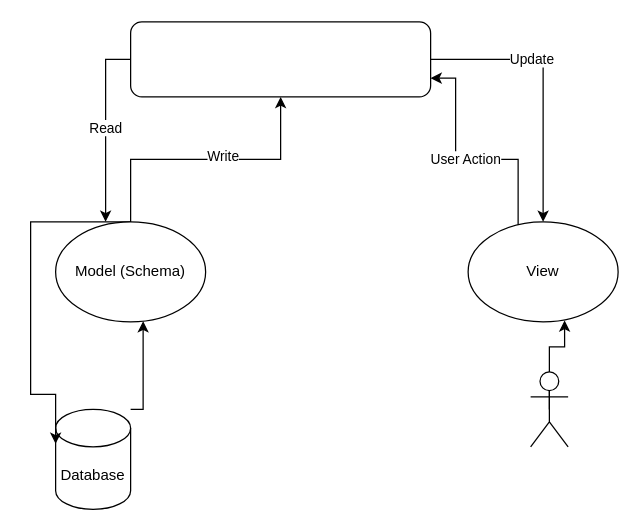
This 640x531 diagram has some shape labels left out. The centre of each missing label's shape, as x and y in pixels:
"Controller" goes at pixel 280 59.
"User" goes at pixel 548 409.
